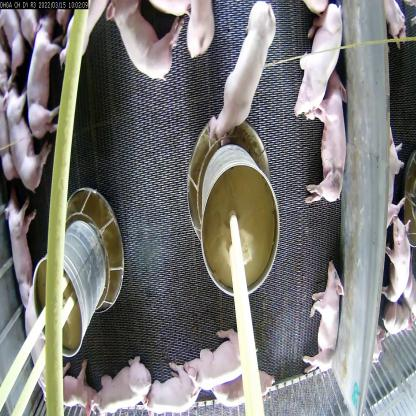Pig: (211, 0, 268, 129), (108, 0, 171, 107), (286, 17, 344, 126), (18, 19, 58, 162), (175, 1, 231, 82), (303, 267, 344, 375), (90, 342, 147, 415), (181, 319, 249, 380), (8, 190, 38, 306), (145, 367, 204, 415), (314, 90, 342, 190), (226, 360, 274, 416), (4, 86, 34, 171), (20, 300, 54, 371)
